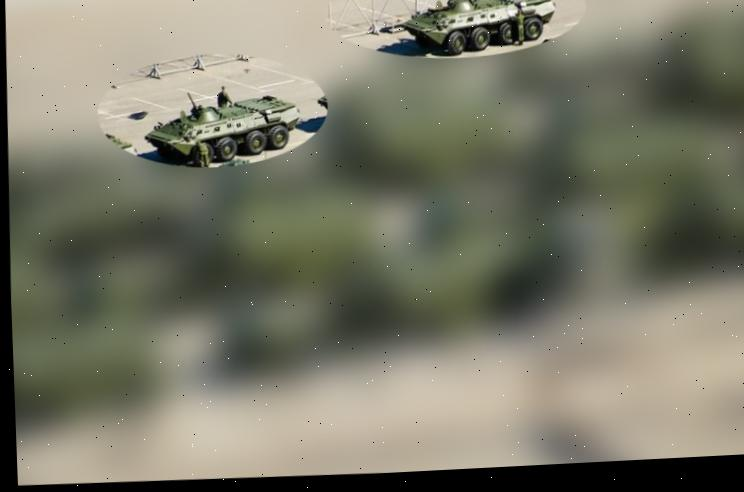armored_car: (140, 86, 303, 172), (400, 0, 561, 58)
